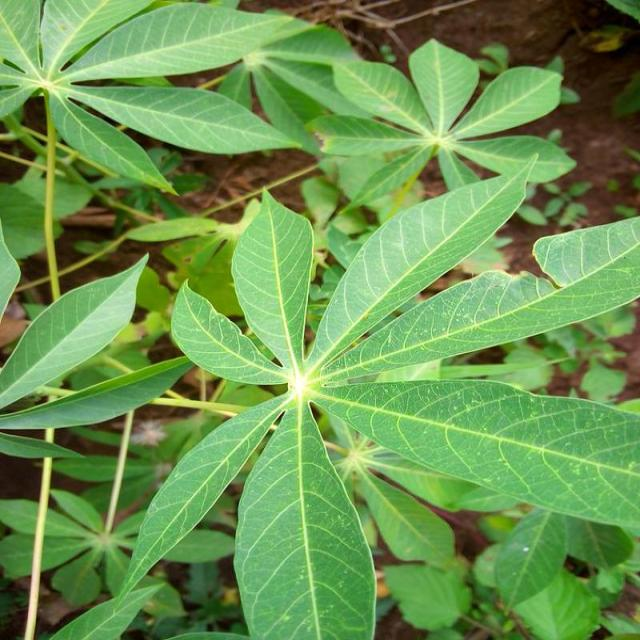cassava leaf: (116, 165, 640, 637), (306, 156, 538, 377), (234, 396, 378, 638), (1, 250, 151, 410)
